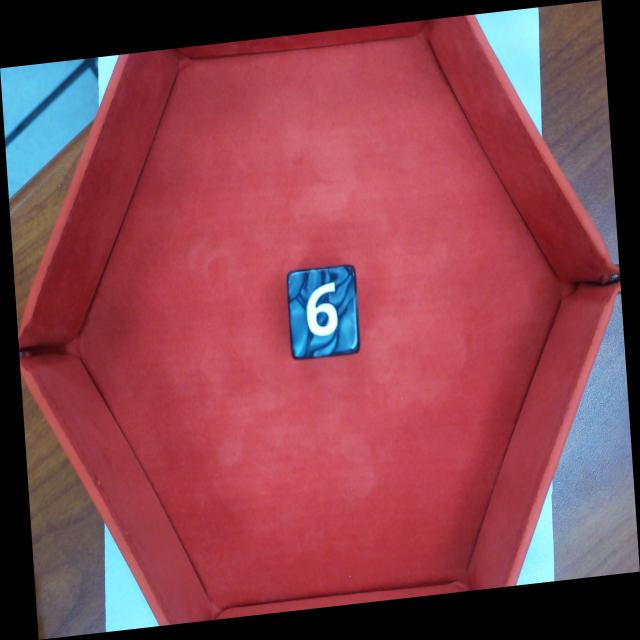dice: (285, 262, 363, 363)
